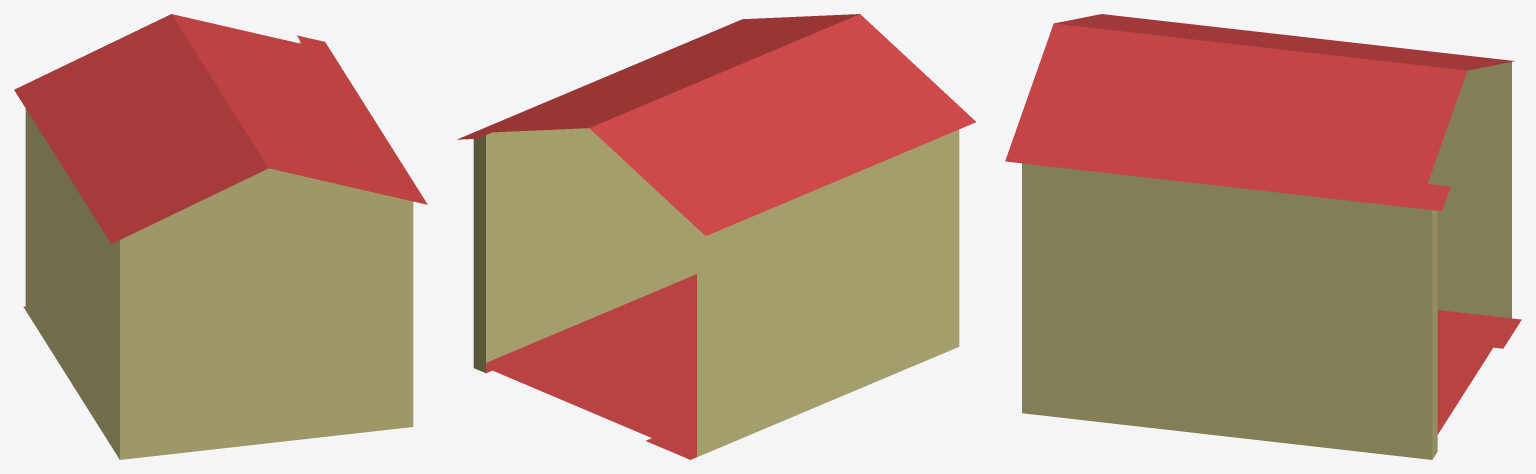
3 renders of one model, left to right at view 1: azimuth 30°, elevation 25°; view 2: azimuth 150°, elevation 25°; view 3: azimuth 270°, elevation 25°, orthographic. The views are drawn at different scales.
Bounding box in the file's own units: 17.41 × 18.88 × 12.8.
